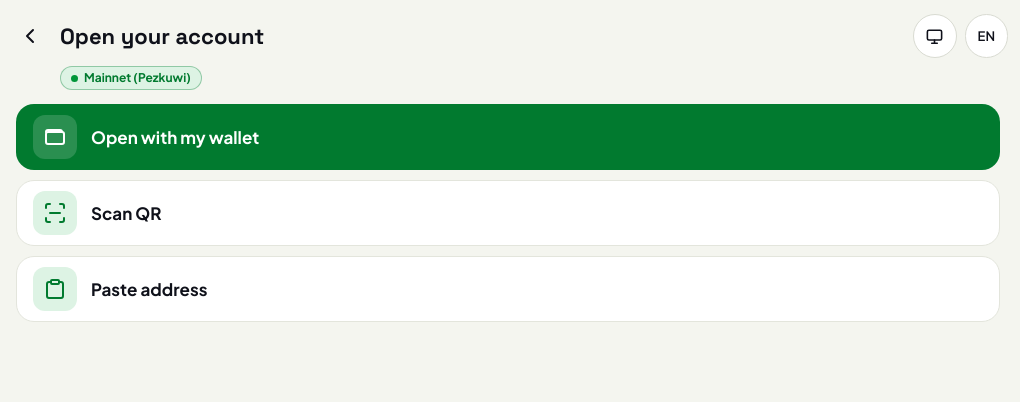
Scenario: OpenAccount ways in › lets the user leave scan mode, and says so when the camera is denied
Step 1. Click the button "Scan QR" → (55, 213), box [16,180,1000,246]
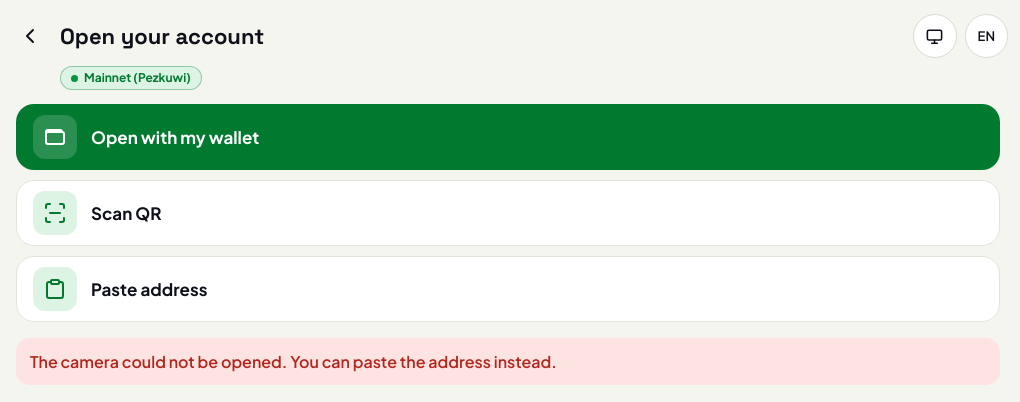
Expected: the button "Open with my wallet" is shown, [16,104,1000,170]
Expected: the message shows "camera could not be opened", [30,351,557,372]
